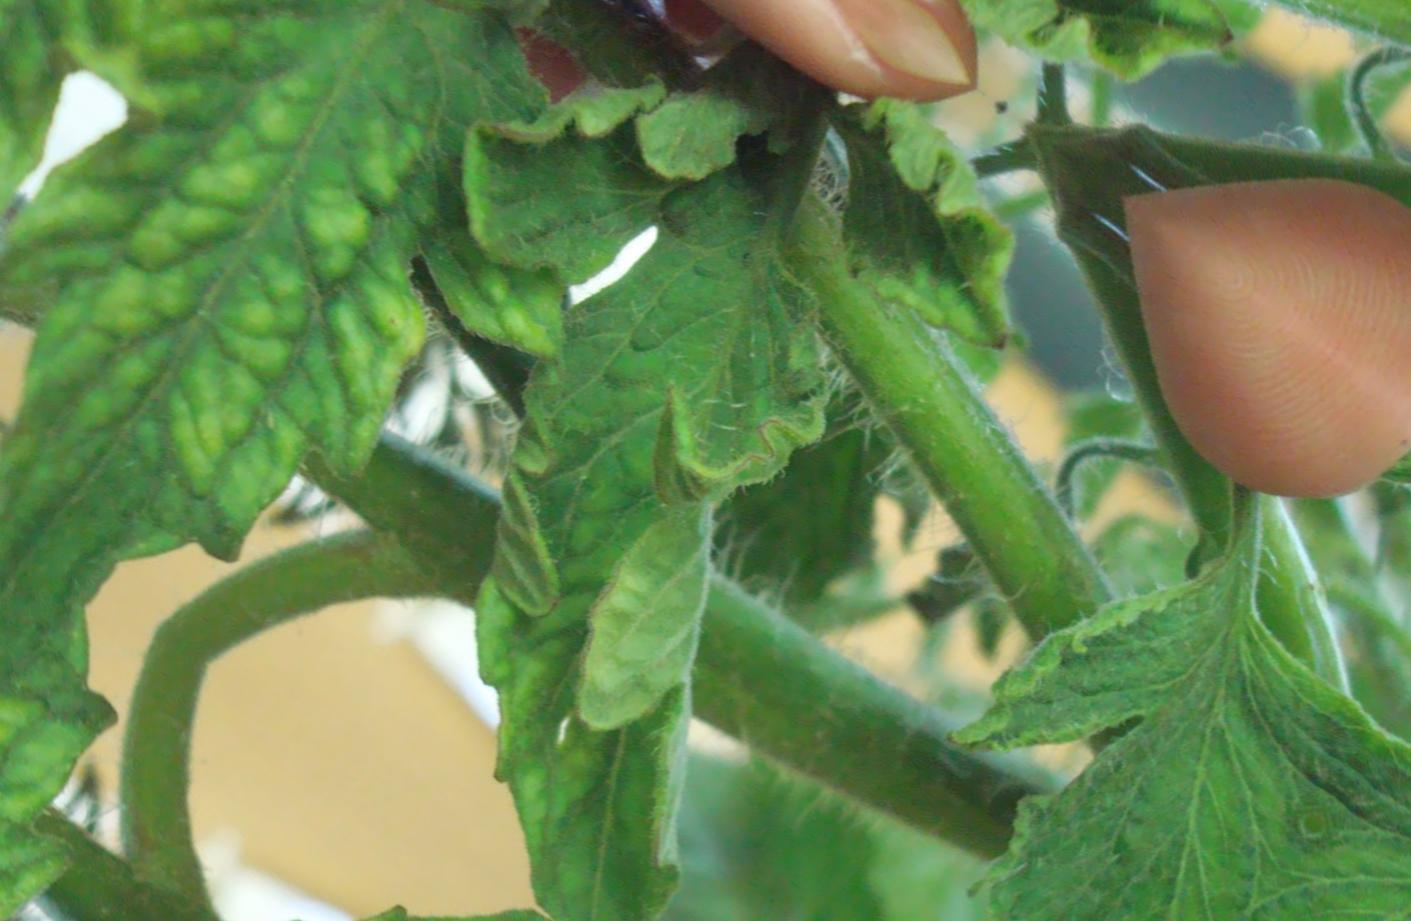Tomato leaf mosaic virus: (131, 2, 1109, 921), (0, 0, 708, 700), (743, 489, 1406, 921)
